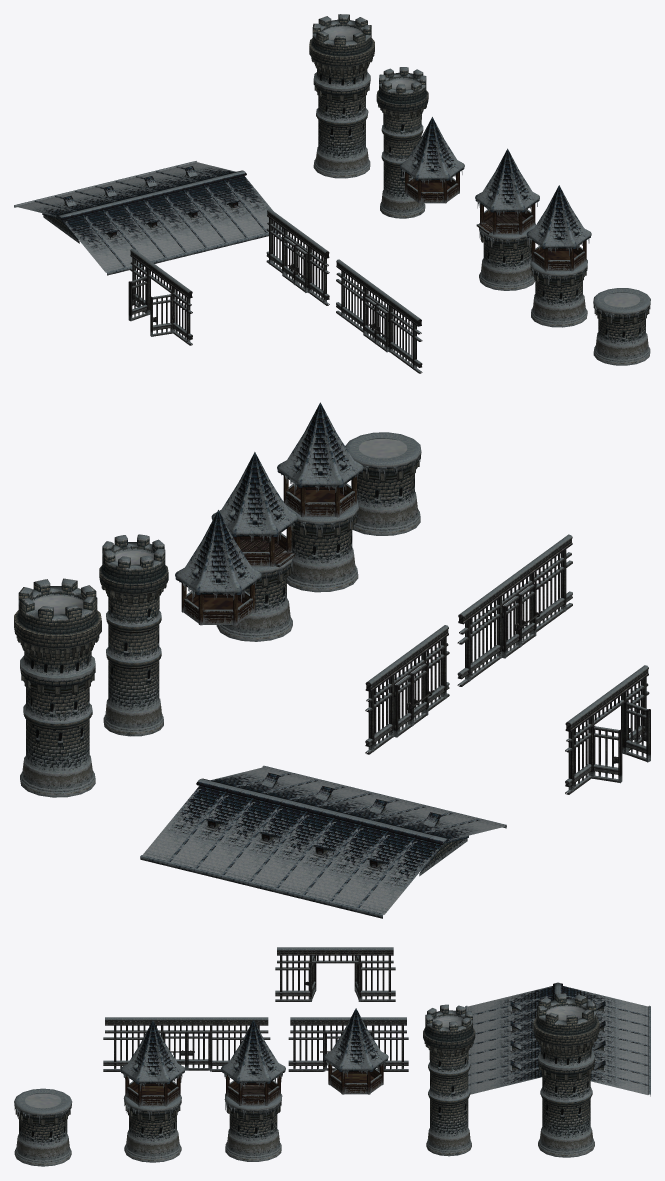
The model's file is EnvMdrMD_Snow_B_Jail_Gate_A.FBX.
3 renders of one model, top to bottom at view 1: azimuth 30°, elevation 25°; view 2: azimuth 150°, elevation 25°; view 3: azimuth 270°, elevation 25°, orthographic. The views are drawn at different scales.
Visible parts, largest first — view 1: EnvMdrMD_Snow_B_Jail_Roof_A, EnvMdrMD_Snow_B_Jail_Tower_B, EnvMdrMD_Snow_B_Jail_Tower_C, EnvMdrMD_Snow_B_Jail_Tower_C_Radder, EnvMdrMD_Snow_B_Jail_Tower_A, EnvMdrMD_Snow_B_Jail_Gate_B, EnvMdrMD_Snow_B_Jail_Tower_C_Bottom, EnvMdrMD_Snow_B_Jail_Tower_C_Top, EnvMdrMD_Snow_B_Jail_Gate_A_Open, EnvMdrMD_Snow_B_Jail_Gate_A; view 2: EnvMdrMD_Snow_B_Jail_Roof_A, EnvMdrMD_Snow_B_Jail_Tower_B, EnvMdrMD_Snow_B_Jail_Tower_A, EnvMdrMD_Snow_B_Jail_Tower_C, EnvMdrMD_Snow_B_Jail_Tower_C_Radder, EnvMdrMD_Snow_B_Jail_Gate_B, EnvMdrMD_Snow_B_Jail_Tower_C_Bottom, EnvMdrMD_Snow_B_Jail_Tower_C_Top, EnvMdrMD_Snow_B_Jail_Gate_A_Open, EnvMdrMD_Snow_B_Jail_Gate_A; view 3: EnvMdrMD_Snow_B_Jail_Roof_A, EnvMdrMD_Snow_B_Jail_Tower_B, EnvMdrMD_Snow_B_Jail_Tower_C, EnvMdrMD_Snow_B_Jail_Tower_C_Radder, EnvMdrMD_Snow_B_Jail_Tower_A, EnvMdrMD_Snow_B_Jail_Gate_B, EnvMdrMD_Snow_B_Jail_Tower_C_Bottom, EnvMdrMD_Snow_B_Jail_Gate_A_Open, EnvMdrMD_Snow_B_Jail_Tower_C_Top, EnvMdrMD_Snow_B_Jail_Gate_A.
Part boxes in pixels (x1=…): EnvMdrMD_Snow_B_Jail_Roof_A: x1=14, y1=161, x2=283, y2=275; EnvMdrMD_Snow_B_Jail_Tower_B: x1=309, y1=14, x2=374, y2=178; EnvMdrMD_Snow_B_Jail_Tower_C: x1=526, y1=185, x2=591, y2=327; EnvMdrMD_Snow_B_Jail_Tower_C_Radder: x1=475, y1=148, x2=539, y2=290; EnvMdrMD_Snow_B_Jail_Tower_A: x1=376, y1=67, x2=428, y2=218; EnvMdrMD_Snow_B_Jail_Gate_B: x1=336, y1=259, x2=422, y2=373; EnvMdrMD_Snow_B_Jail_Tower_C_Bottom: x1=593, y1=288, x2=650, y2=365; EnvMdrMD_Snow_B_Jail_Tower_C_Top: x1=400, y1=117, x2=464, y2=203; EnvMdrMD_Snow_B_Jail_Gate_A_Open: x1=128, y1=248, x2=192, y2=345; EnvMdrMD_Snow_B_Jail_Gate_A: x1=266, y1=208, x2=329, y2=305; EnvMdrMD_Snow_B_Jail_Roof_A: x1=140, y1=765, x2=506, y2=918; EnvMdrMD_Snow_B_Jail_Tower_B: x1=14, y1=578, x2=101, y2=797; EnvMdrMD_Snow_B_Jail_Tower_A: x1=99, y1=534, x2=168, y2=736; EnvMdrMD_Snow_B_Jail_Tower_C: x1=277, y1=402, x2=363, y2=592; EnvMdrMD_Snow_B_Jail_Tower_C_Radder: x1=211, y1=452, x2=298, y2=641; EnvMdrMD_Snow_B_Jail_Gate_B: x1=457, y1=534, x2=572, y2=686; EnvMdrMD_Snow_B_Jail_Tower_C_Bottom: x1=345, y1=432, x2=421, y2=535; EnvMdrMD_Snow_B_Jail_Tower_C_Top: x1=175, y1=510, x2=261, y2=625; EnvMdrMD_Snow_B_Jail_Gate_A_Open: x1=565, y1=665, x2=650, y2=794; EnvMdrMD_Snow_B_Jail_Gate_A: x1=365, y1=625, x2=449, y2=754; EnvMdrMD_Snow_B_Jail_Roof_A: x1=465, y1=982, x2=650, y2=1096; EnvMdrMD_Snow_B_Jail_Tower_B: x1=533, y1=993, x2=599, y2=1157; EnvMdrMD_Snow_B_Jail_Tower_C: x1=120, y1=1020, x2=185, y2=1162; EnvMdrMD_Snow_B_Jail_Tower_C_Radder: x1=221, y1=1020, x2=285, y2=1161; EnvMdrMD_Snow_B_Jail_Tower_A: x1=423, y1=1004, x2=475, y2=1156; EnvMdrMD_Snow_B_Jail_Gate_B: x1=103, y1=1017, x2=270, y2=1071; EnvMdrMD_Snow_B_Jail_Tower_C_Bottom: x1=14, y1=1088, x2=72, y2=1166; EnvMdrMD_Snow_B_Jail_Gate_A_Open: x1=275, y1=947, x2=395, y2=1001; EnvMdrMD_Snow_B_Jail_Tower_C_Top: x1=323, y1=1008, x2=388, y2=1094; EnvMdrMD_Snow_B_Jail_Gate_A: x1=288, y1=1017, x2=408, y2=1071.
Bounding box in the file's own units: 3572 × 1353 × 5460.
Materials: 1 (1 with a texture image).
